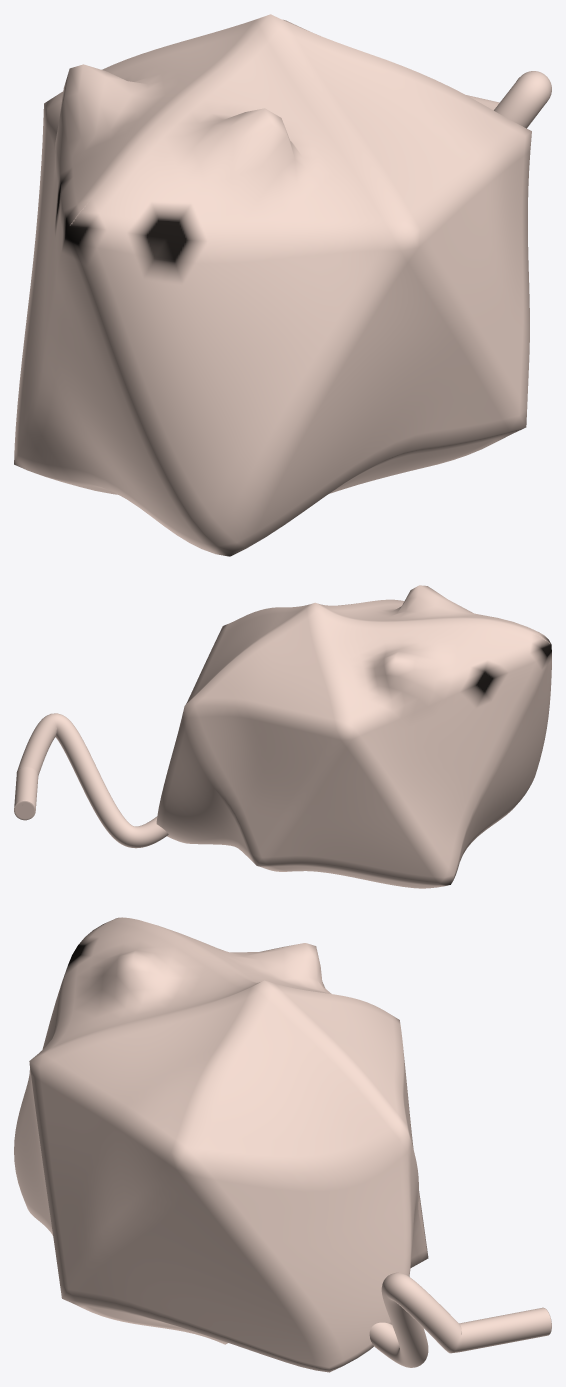
File: Project 2.obj
3 views of the same model, one above another, from view 1: azimuth 30°, elevation 25°; view 2: azimuth 150°, elevation 25°; view 3: azimuth 270°, elevation 25° (orthographic). The views are drawn at different scales.
Parts seen in each view (by area): view 1: Patch_14, Patch_16, Patch_12, Patch_5, Patch_19, Patch_13, Patch_15, Patch_7, Patch_4, 主要; view 2: Patch_7, Patch_15, Patch_6, Patch_9, Patch_17, Patch_8, Patch_5, 主要, Patch_16, Patch_18, Patch; view 3: Patch_11, Patch_18, Patch_10, Patch_13, Patch_19, Patch_16, 主要, Patch_17, Patch_15, Patch_12, Patch_8, Patch_3 (+1 smaller).
Part boxes in pixels (box(x1,y1,x2,y2)): Patch_14: box(69, 226, 411, 556); Patch_16: box(70, 14, 411, 241); Patch_12: box(230, 236, 525, 556); Patch_5: box(14, 226, 229, 556); Patch_19: box(271, 14, 531, 235); Patch_13: box(412, 131, 531, 426); Patch_15: box(44, 14, 270, 225); Patch_7: box(14, 104, 69, 463); Patch_4: box(329, 428, 524, 493); 主要: box(466, 71, 551, 128); Patch_7: box(347, 644, 551, 884); Patch_15: box(315, 603, 551, 731); Patch_6: box(257, 732, 450, 884); Patch_9: box(185, 705, 346, 865); Patch_17: box(185, 603, 346, 731); Patch_8: box(156, 706, 255, 864); Patch_5: box(451, 645, 551, 883); 主要: box(14, 713, 168, 848); Patch_16: box(316, 585, 550, 643); Patch_18: box(186, 603, 314, 703); Patch: box(257, 863, 450, 888); Patch_11: box(182, 1134, 410, 1372); Patch_18: box(182, 980, 407, 1172); Patch_10: box(62, 1159, 329, 1372); Patch_13: box(29, 1061, 181, 1297); Patch_19: box(30, 981, 263, 1158); Patch_16: box(30, 917, 260, 1060); 主要: box(369, 1272, 551, 1367); Patch_17: box(265, 980, 407, 1132); Patch_15: box(151, 923, 331, 993); Patch_12: box(14, 1064, 52, 1235); Patch_8: box(407, 1134, 428, 1276); Patch_3: box(63, 1299, 227, 1344).
Size of the model in its own units: 1.57 by 1.05 by 1.4.
Materials: 1 (1 with a texture image).
